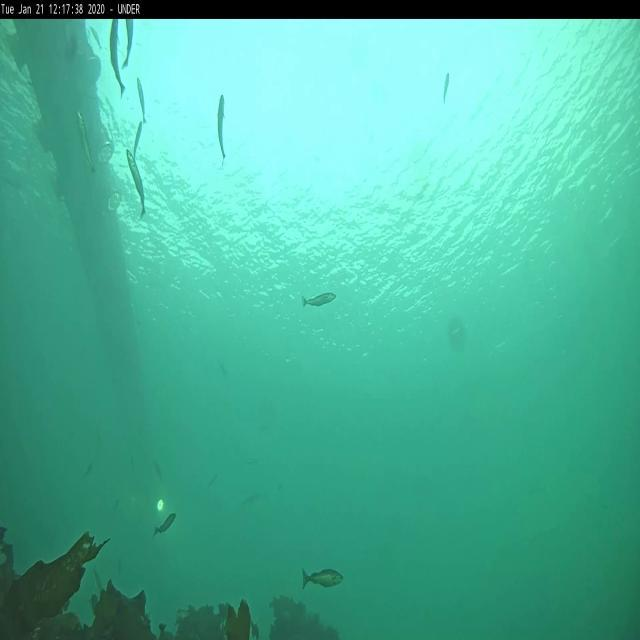fish: (74, 111, 98, 178), (108, 20, 126, 93), (125, 156, 146, 217), (297, 566, 348, 590), (134, 76, 151, 123), (216, 90, 226, 164), (122, 20, 134, 70), (152, 512, 177, 536), (301, 294, 337, 307), (150, 458, 166, 487), (241, 487, 263, 506), (441, 72, 453, 105), (108, 492, 122, 520), (134, 124, 142, 156), (84, 466, 95, 482)
